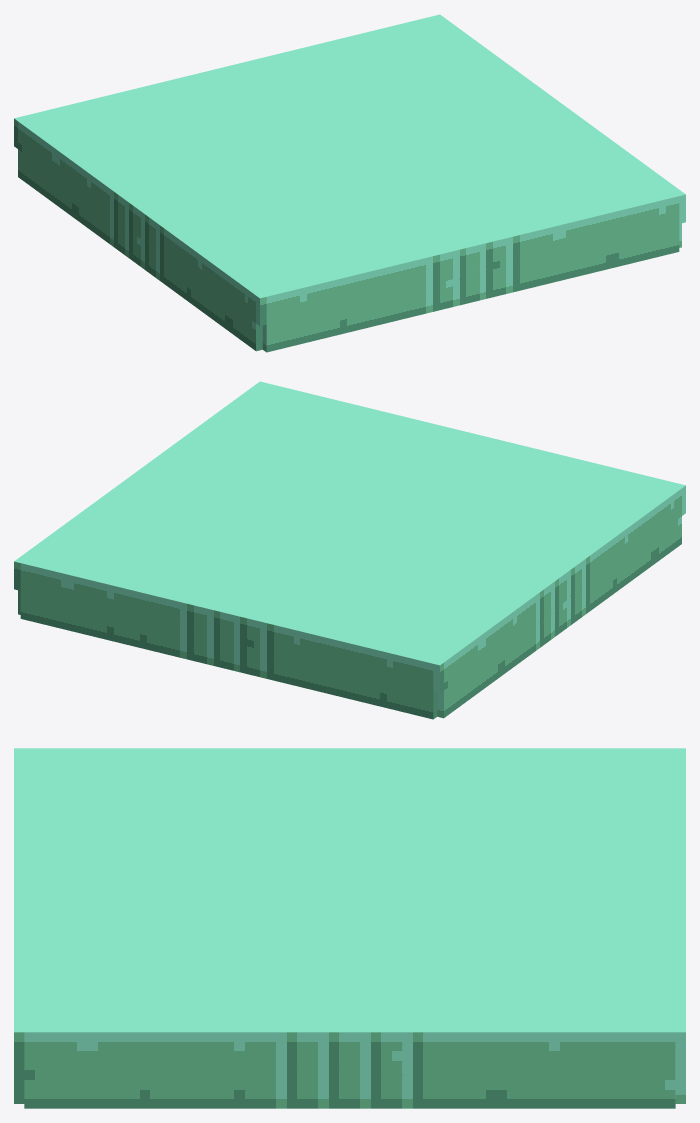
File: lesser_gate_base_mineao.fezao.glb
3 renders of one model, top to bottom at view 1: azimuth 30°, elevation 25°; view 2: azimuth 150°, elevation 25°; view 3: azimuth 270°, elevation 25°, orthographic. The views are drawn at different scales.
Visible parts, largest first — view 1: LESSER_GATE_BASE_MINEAO; view 2: LESSER_GATE_BASE_MINEAO; view 3: LESSER_GATE_BASE_MINEAO.
Boxes of the visible parts, box(x1,y1,x2,y2) form: LESSER_GATE_BASE_MINEAO: box(14, 14, 685, 352); LESSER_GATE_BASE_MINEAO: box(14, 381, 685, 719); LESSER_GATE_BASE_MINEAO: box(14, 748, 685, 1108).
Bounding box in the file's own units: 4 × 0.5 × 4.
1 material, 1 textured.
